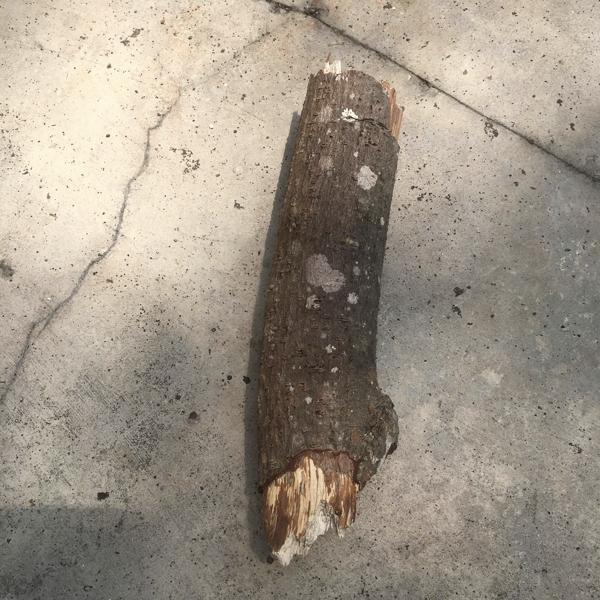Organik: (240, 61, 413, 573)
